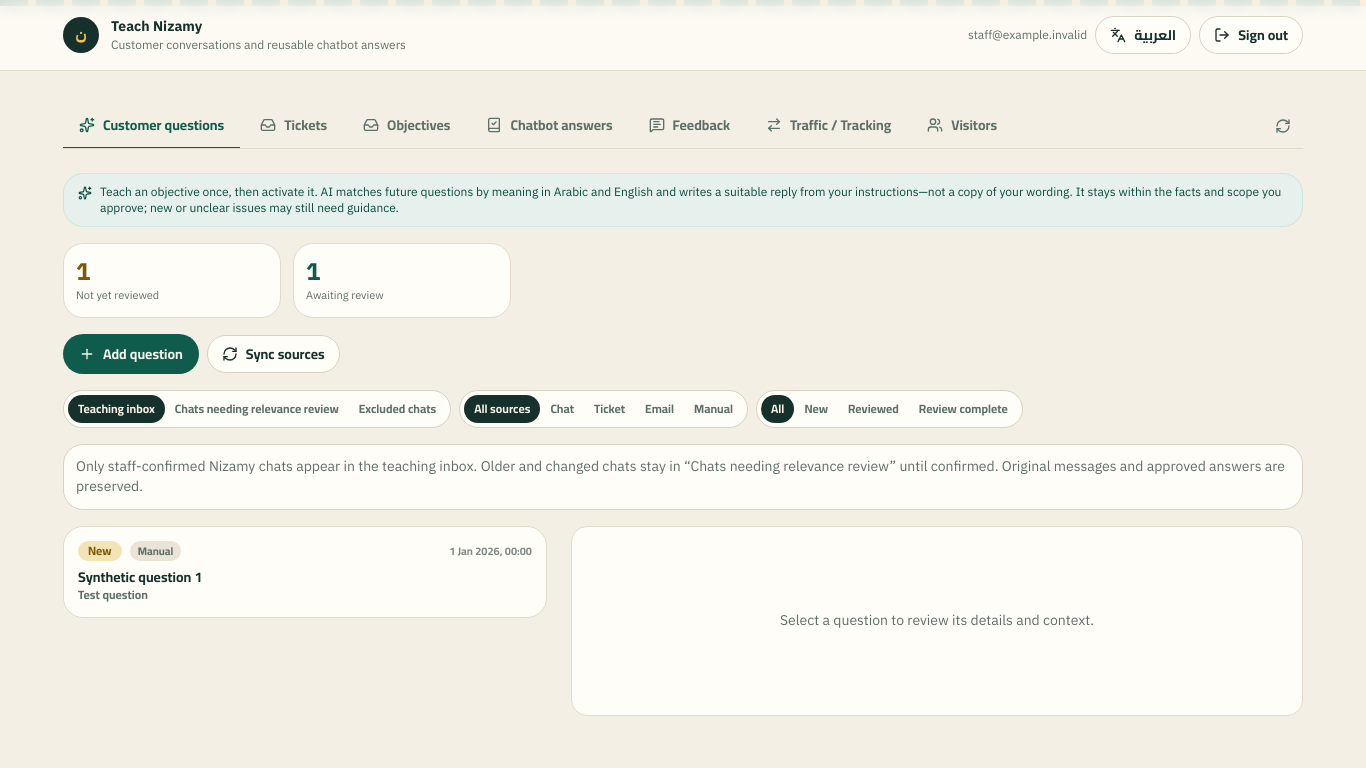
Test: inbox sync in en › refreshes local questions after partial success and replaces earlier success with a warning
expect the button with test id "card-inbox-1" is shown: met, box top-left (63, 526), bottom-right (547, 618)
Step 1. Click the button with test id "button-sync" → (273, 354), box top-left (207, 334), bottom-right (340, 372)
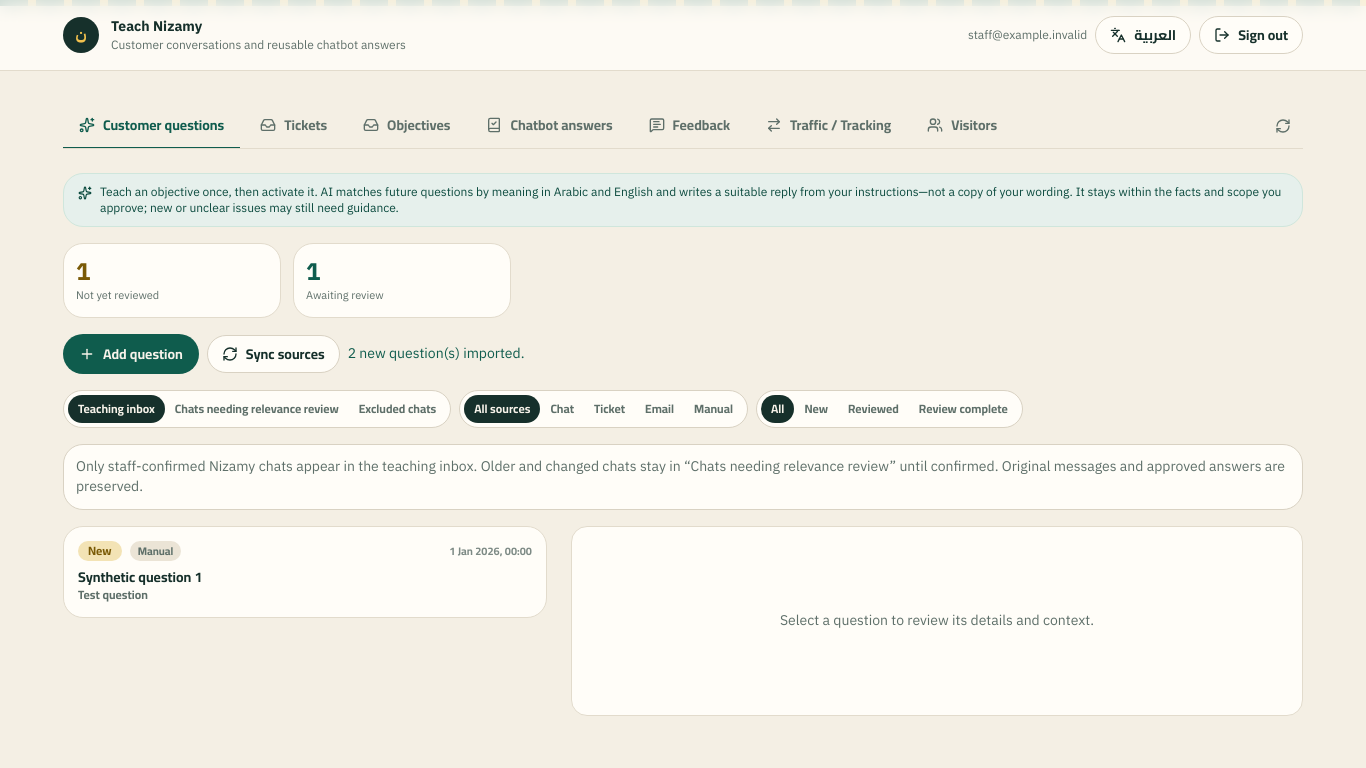
expect the message reads "2 new question(s) imported.": met, box top-left (348, 342), bottom-right (524, 364)
Step 2. Click the button with test id "button-sync" → (273, 354), box top-left (207, 334), bottom-right (340, 372)
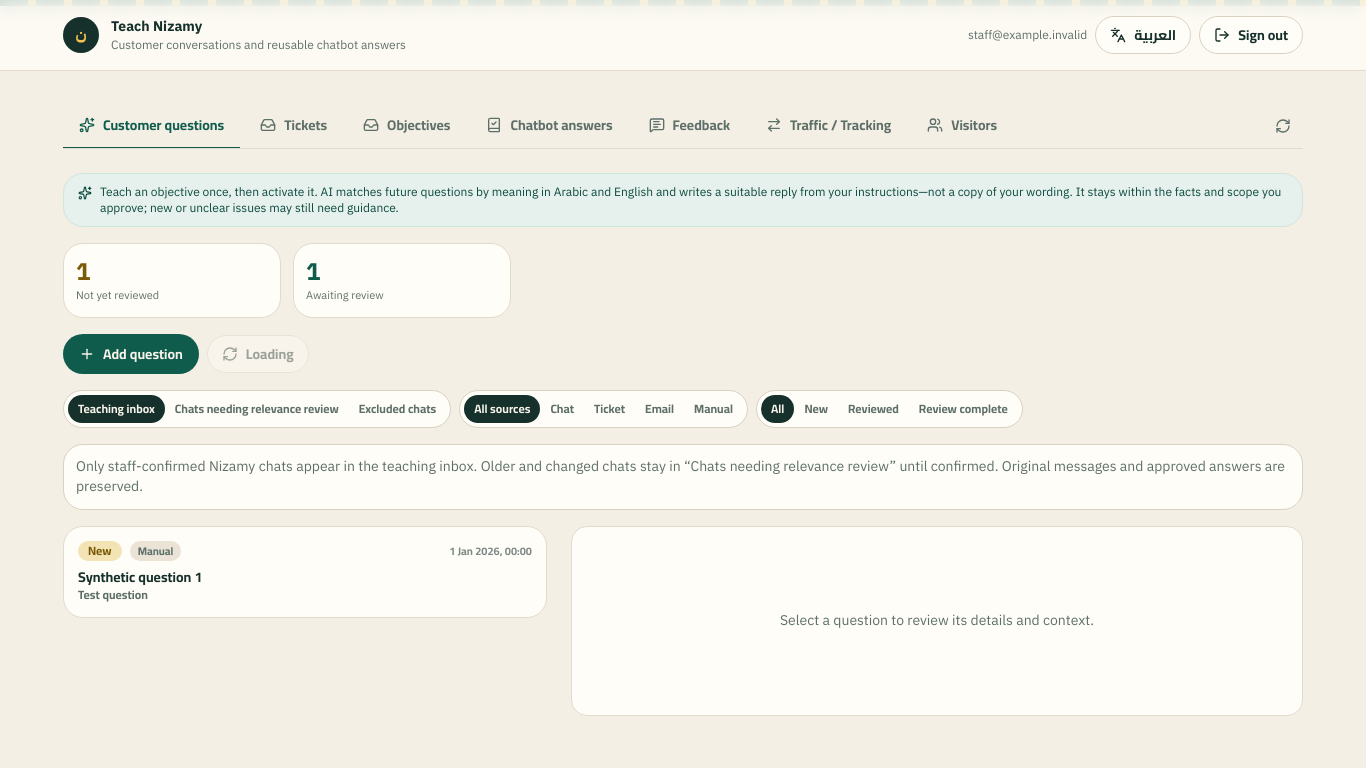
expect the button with test id "button-sync" is disabled: met
expect the message "2 new question(s) imported." is gone: met
Step 3. Click the button with test id "button-sync" → (258, 354), box top-left (207, 334), bottom-right (309, 372)
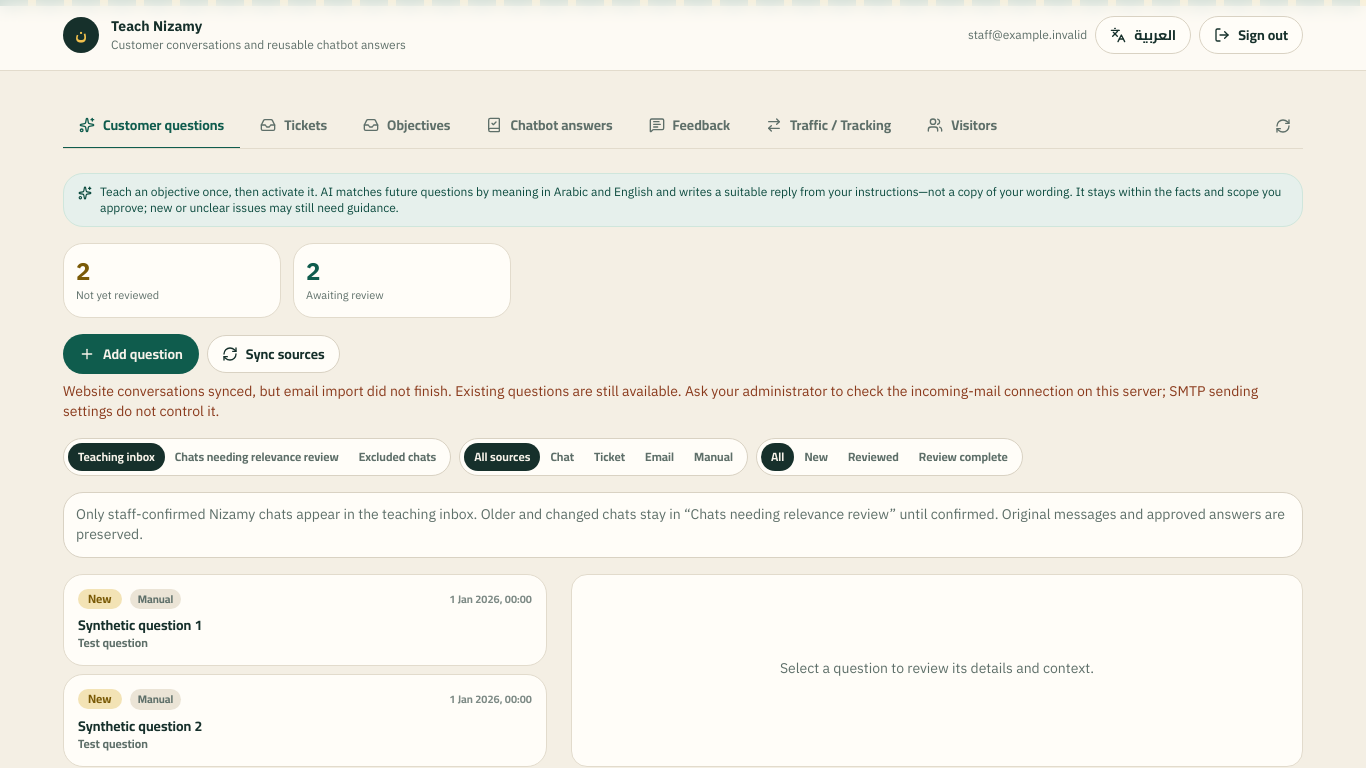
expect the button with test id "card-inbox-2" is shown: met, box top-left (63, 674), bottom-right (547, 766)
expect the message shows "Website conversations synced, but email import did not finish.": met, box top-left (63, 380), bottom-right (1258, 422)
expect the button with test id "button-sync" is enabled: met, box top-left (207, 334), bottom-right (340, 372)
